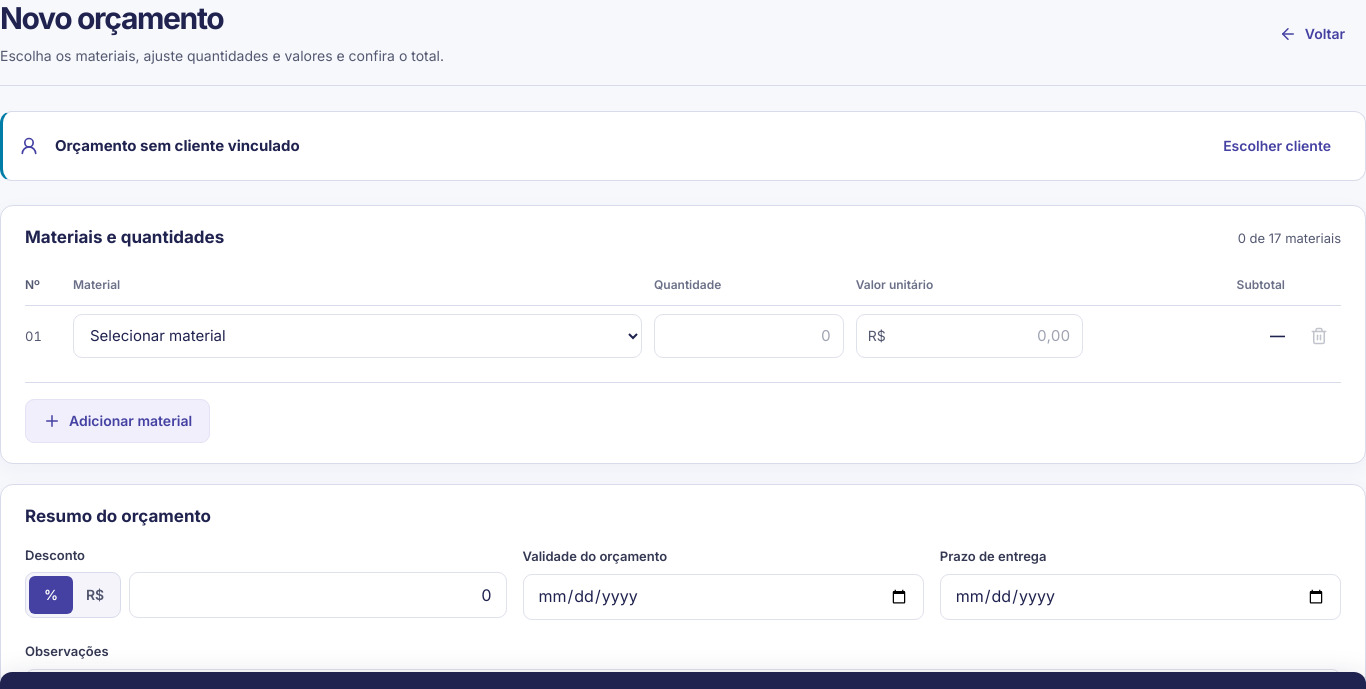
Test case: Montagem do orçamento › trocar de cliente preserva os materiais já preenchidos
This screenshot has width=1366, height=689.
Select "Laminação · Laminação fosca" in the dropdown named "Material 1" at (358, 336), box left=73, top=314, right=642, bottom=358
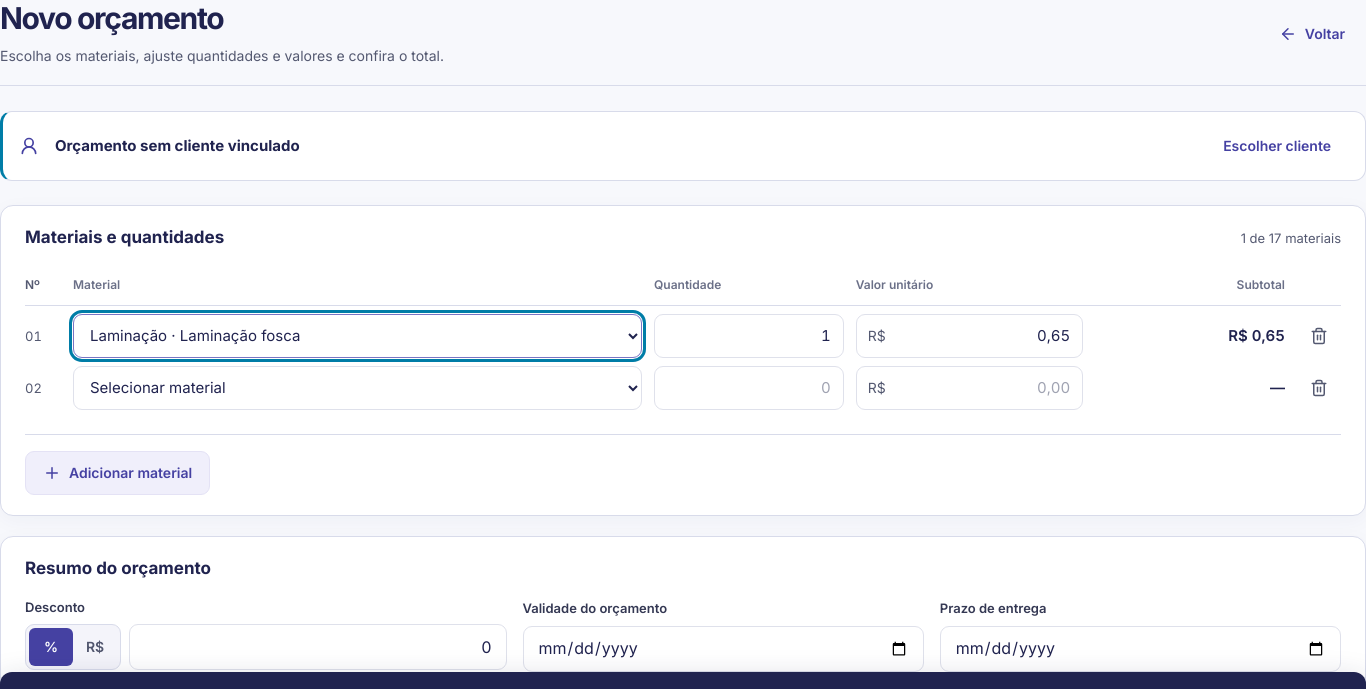
Replace the text in the field named "Quantidade 1" with "40" at (749, 336), box left=654, top=314, right=844, bottom=358
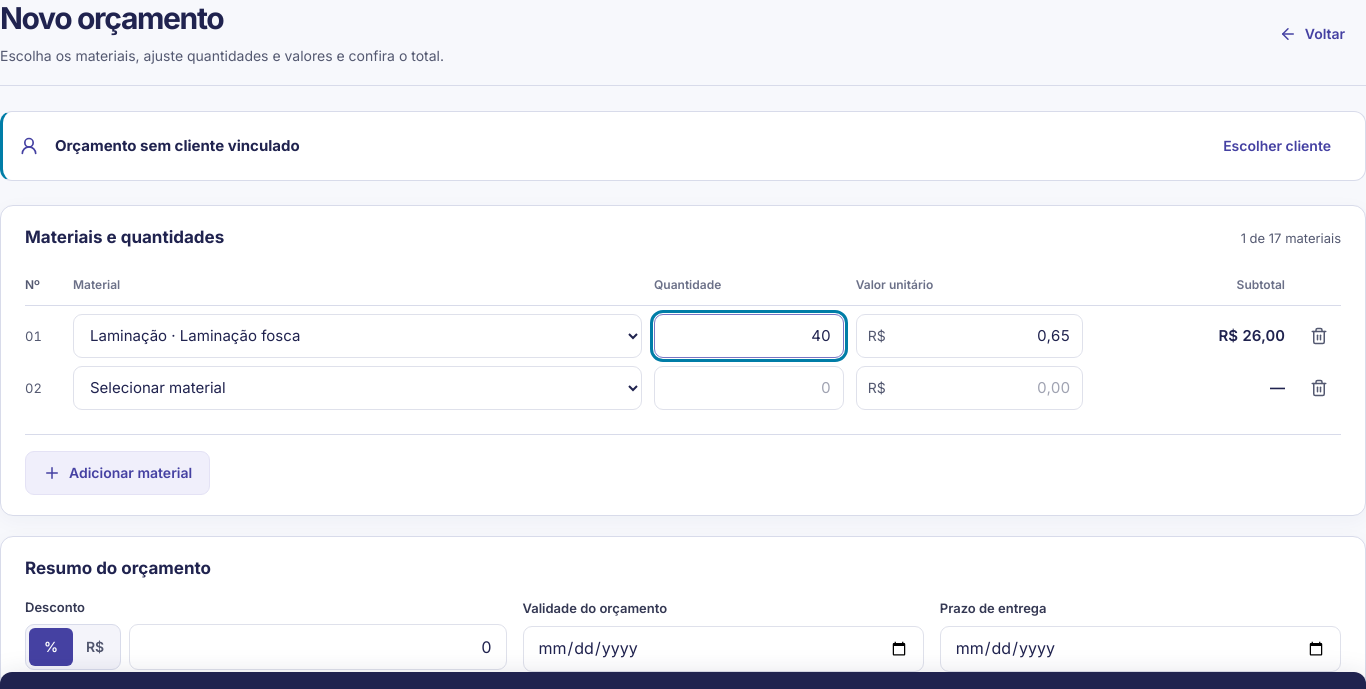
Check: the text "Orçamento sem cliente vinculado" is shown, box left=55, top=134, right=300, bottom=158
Click the button "Escolher cliente" at (1277, 146), box left=1205, top=124, right=1349, bottom=168
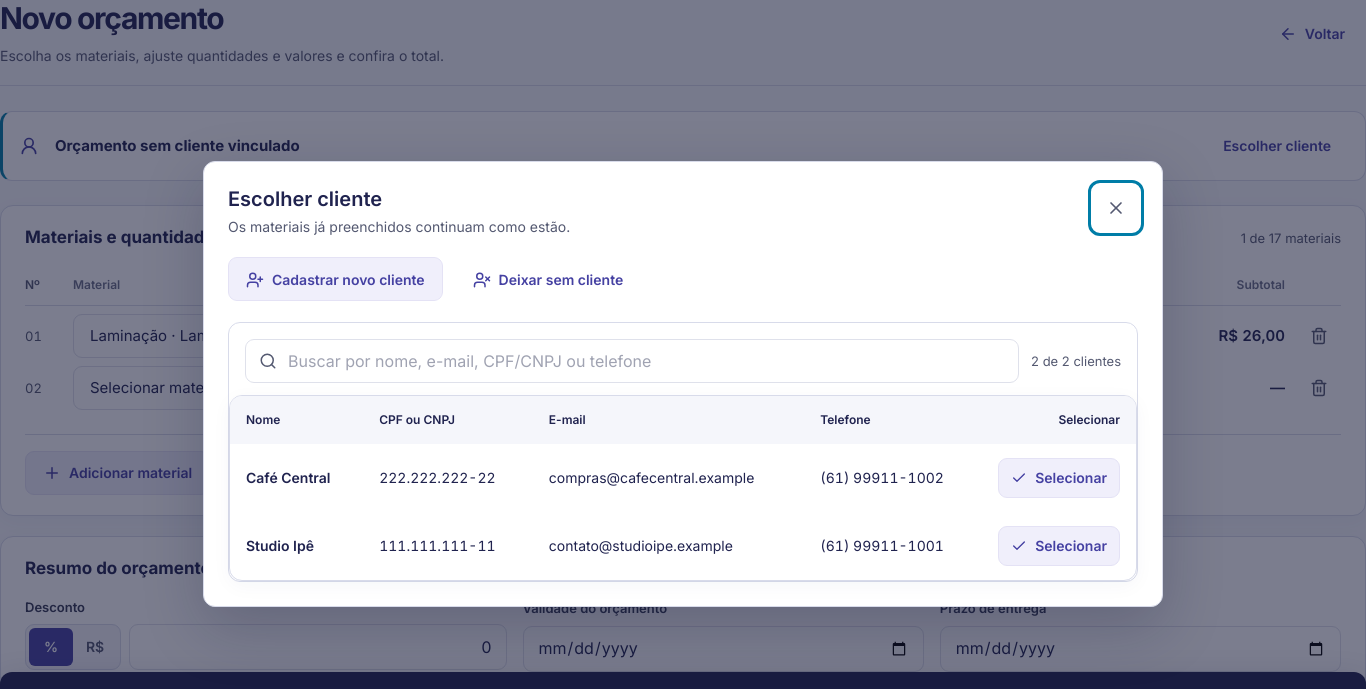
Click the button with aria-label "Selecionar Studio Ipê" at (1059, 546), box left=998, top=526, right=1120, bottom=566
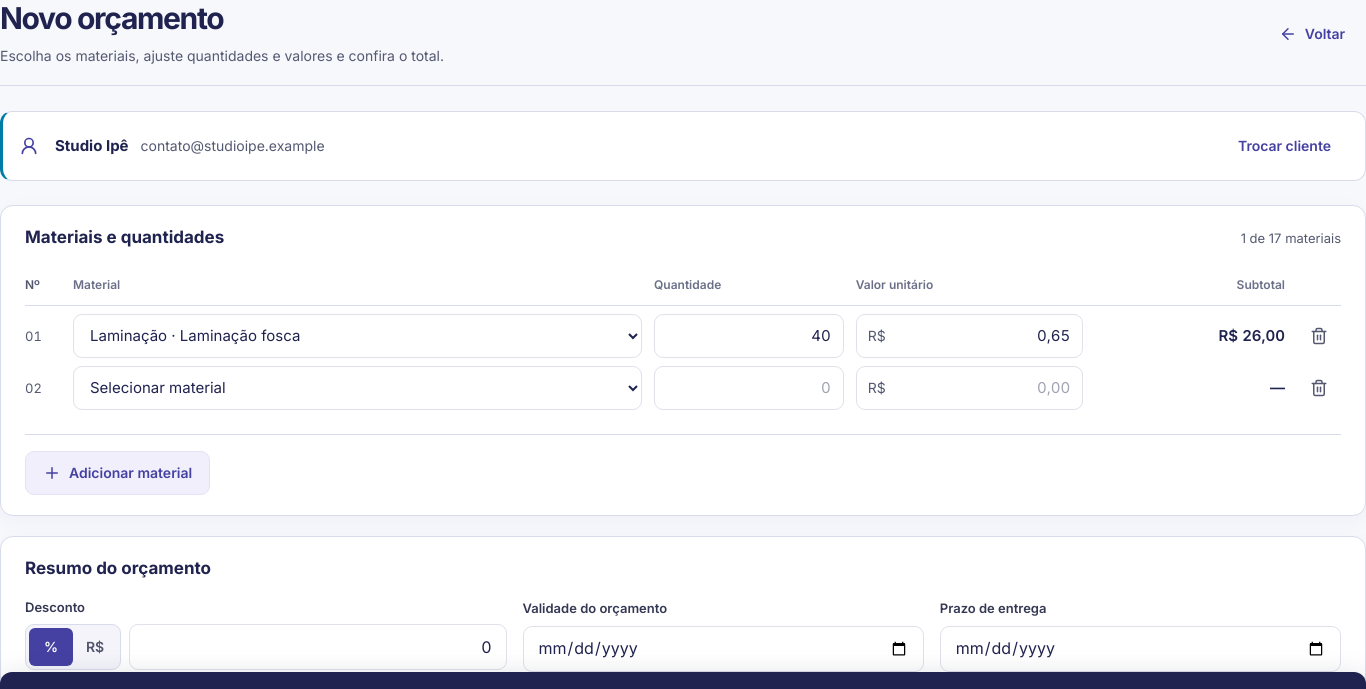
Check: the text "Studio Ipê" is shown, box left=55, top=134, right=128, bottom=158
Click the button "Trocar cliente" at (1284, 146), box left=1220, top=124, right=1349, bottom=168
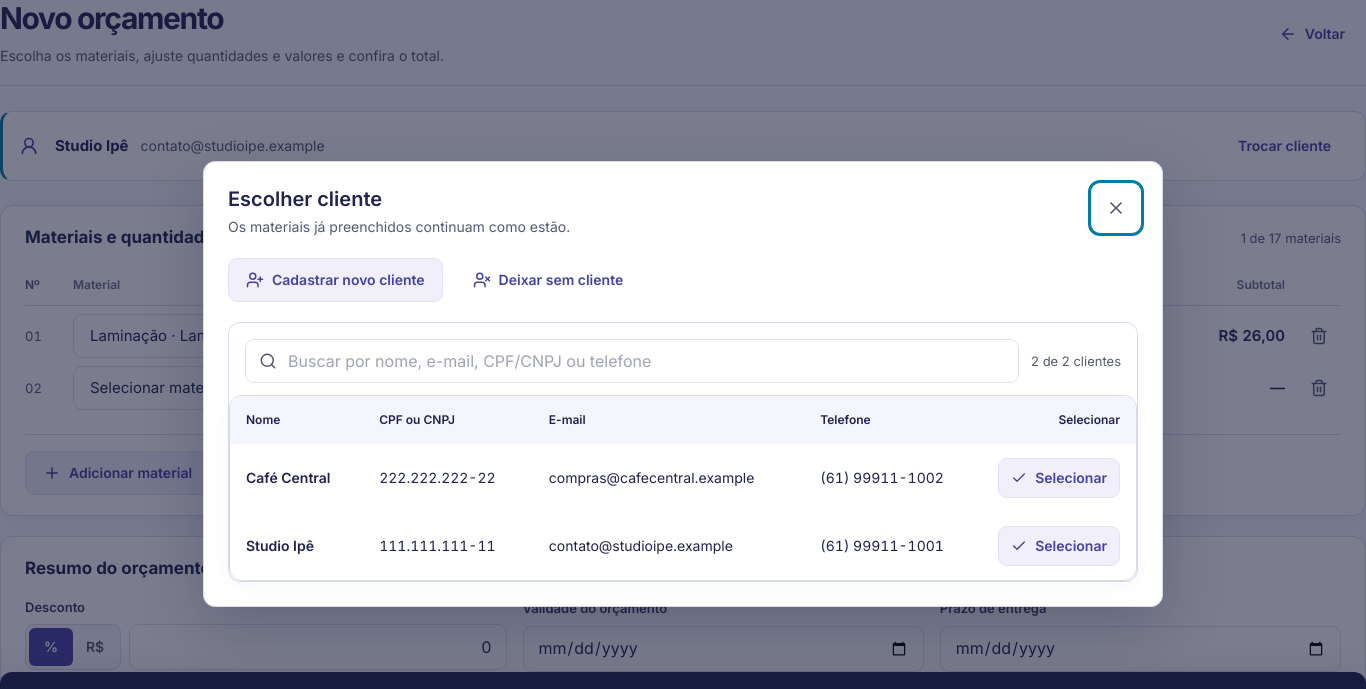
Click the button with aria-label "Selecionar Café Central" at (1059, 478), box left=998, top=458, right=1120, bottom=498
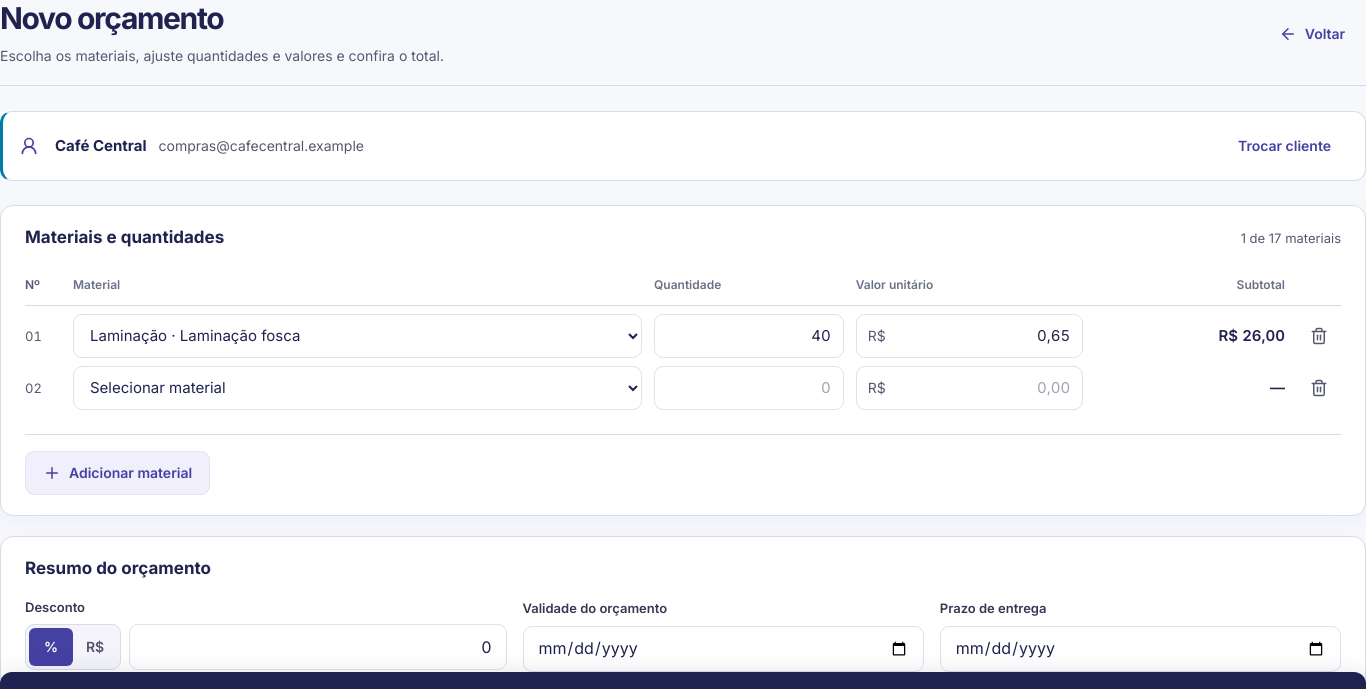
Check: the text "Café Central" is shown, box left=55, top=134, right=146, bottom=158
